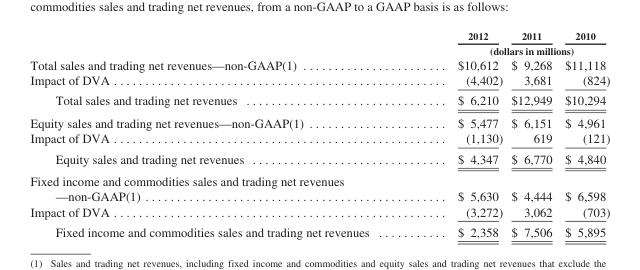table: (29, 29, 609, 238)
table column: (29, 29, 412, 238), (412, 29, 506, 238), (557, 29, 609, 238), (506, 29, 557, 238)
table column header: (29, 29, 609, 56)
table projected row header: (29, 169, 609, 188)
table row: (29, 90, 609, 111), (29, 148, 609, 169), (29, 111, 609, 130), (29, 169, 609, 188), (29, 72, 609, 90), (29, 130, 609, 148), (29, 203, 609, 221), (29, 221, 609, 238), (29, 56, 609, 72), (29, 188, 609, 203), (29, 42, 609, 56), (29, 29, 609, 42)
table spanning cell: (412, 42, 609, 56)
